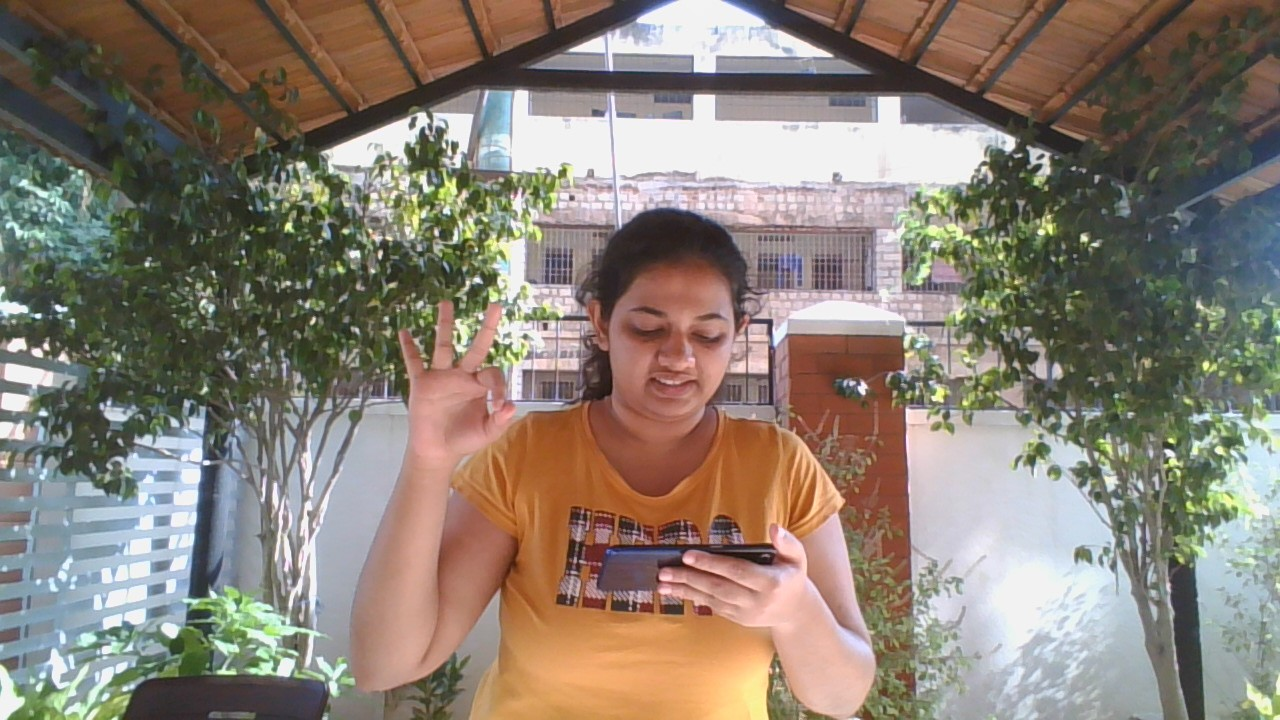f: (381, 295, 523, 465)
